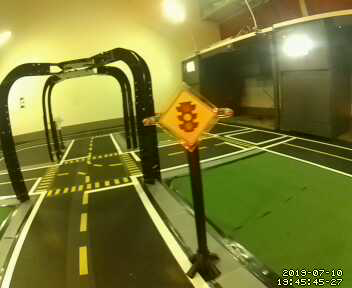Traffic light sign: (160, 88, 218, 144)
